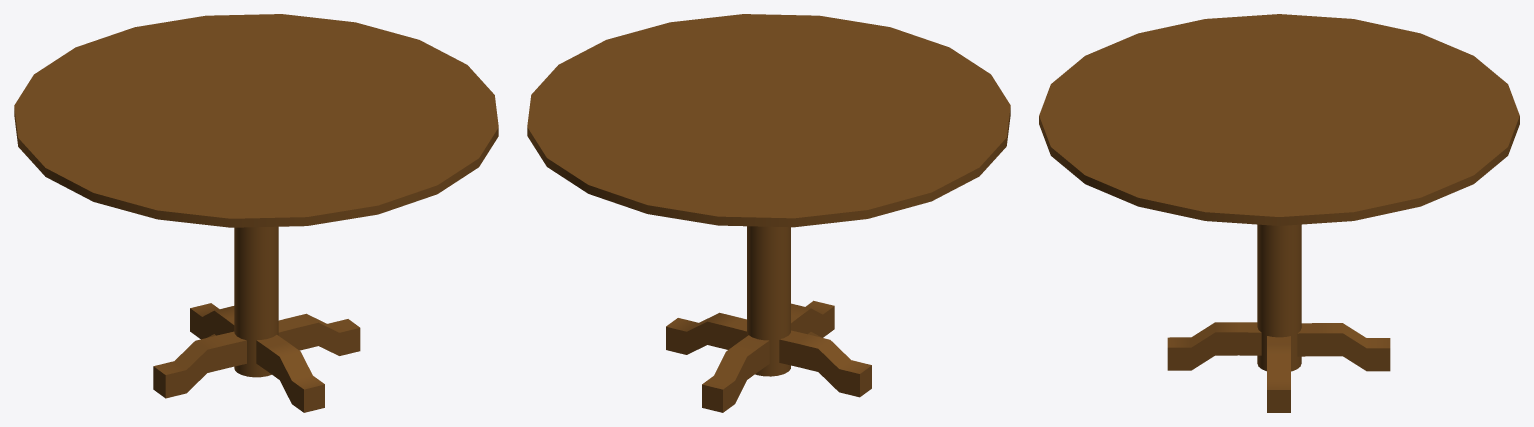
Rendered from table_contents.fbx.
3 renders of one model, left to right at view 1: azimuth 30°, elevation 25°; view 2: azimuth 150°, elevation 25°; view 3: azimuth 270°, elevation 25°, orthographic.
Parts seen in each view (by area): view 1: pCube10; view 2: pCube10; view 3: pCube10.
Boxes of the visible parts, x1,y1,x2,y2 form: pCube10: (14,14,498,412); pCube10: (527,14,1010,412); pCube10: (1039,14,1519,412).
Size of the model in its own units: 98.36 by 56.54 by 98.36.
